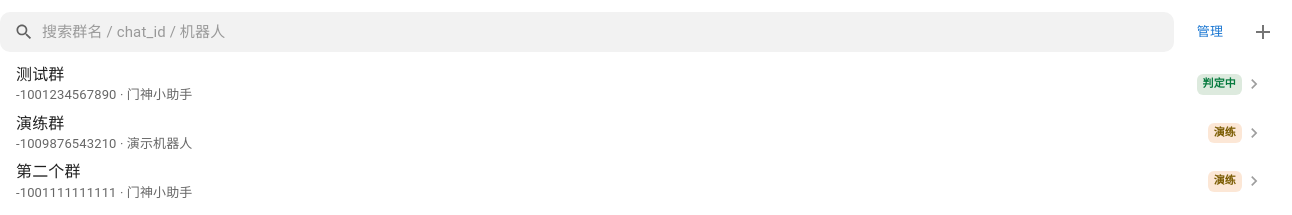
Test: ChatsPage › 本地搜索按群名/chat_id/机器人名过滤
The image size is (1292, 215).
Expected: the text "测试群" is shown, [16,65,64,84]
Expected: the text "演练群" is shown, [16,114,64,133]
In the field named "搜索群组": (608, 32) [42,12,1174,52], type "演练"
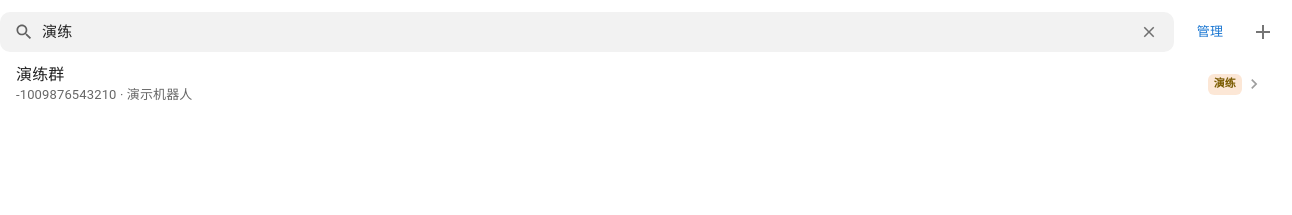
Expected: the text "演练群" is shown, [16,65,64,84]
Expected: the button "测试群" is gone
Replace the text in the field named "搜索群组" with "-1001111": (584, 32) [42,12,1127,52]
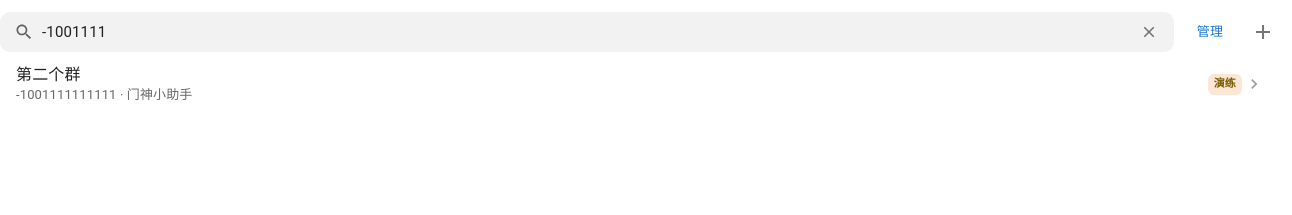
Expected: the text "第二个群" is shown, [16,65,81,84]
Expected: the button "演练群" is gone
Replace the text in the field named "搜索群组" with "门神小助手": (584, 32) [42,12,1127,52]
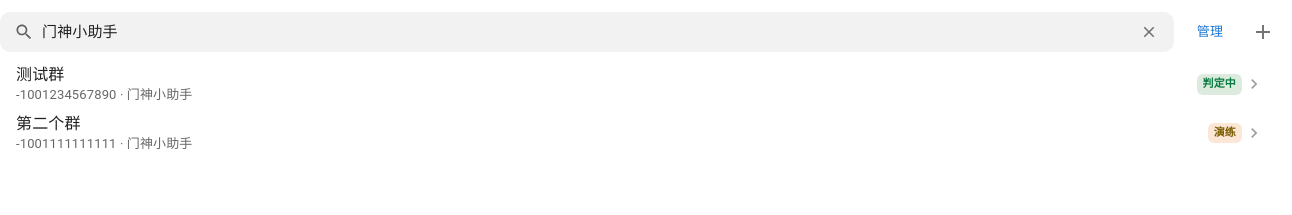
Expected: the button "演练群" is not shown
Expected: the text "第二个群" is shown, [16,114,81,133]
Expected: the text "测试群" is shown, [16,65,64,84]
